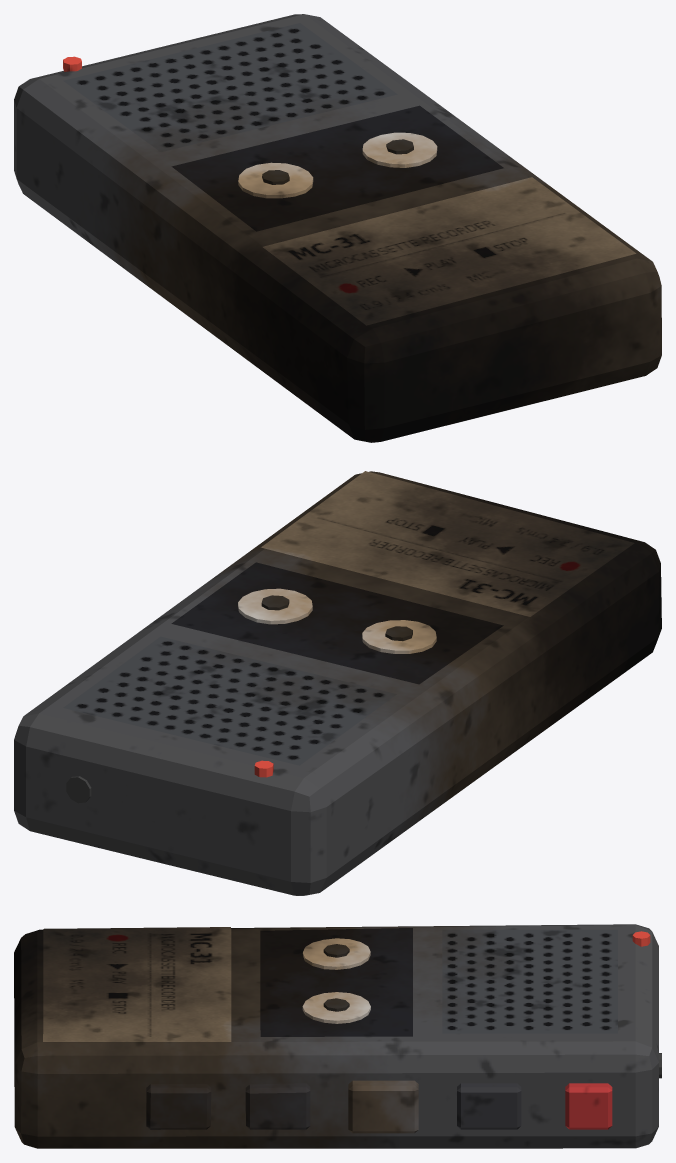
File: Dictaphone.fbx
3 views of the same model, one above another, from view 1: azimuth 30°, elevation 25°; view 2: azimuth 150°, elevation 25°; view 3: azimuth 270°, elevation 25° (orthographic). The views are drawn at different scales.
Visible parts, largest first — view 1: Dictaphone; view 2: Dictaphone; view 3: Dictaphone, Dictaphone_PlayButton.
Part boxes in pixels (x1,y1,x2,y2): Dictaphone: (14, 14, 661, 442); Dictaphone: (14, 471, 661, 895); Dictaphone: (14, 924, 661, 1148); Dictaphone_PlayButton: (348, 1080, 418, 1133).
Bounding box in the file's own units: 0.058 × 0.0217 × 0.1106.
1 material, 1 textured.
